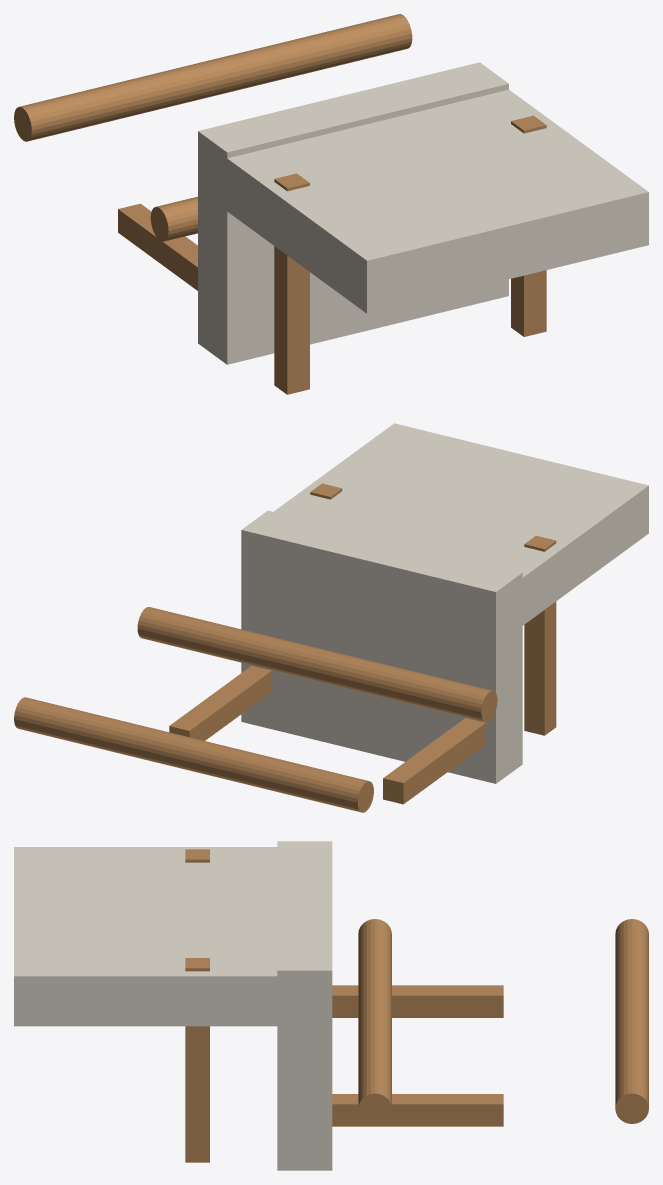
Rendered from rocking-chairs.glb.
3 views of the same model, one above another, from view 1: azimuth 30°, elevation 25°; view 2: azimuth 150°, elevation 25°; view 3: azimuth 270°, elevation 25° (orthographic). The views are drawn at different scales.
Parts seen in each view (by area): view 1: Back, Seat, Runner, world, Arm; view 2: Seat, Back, world, Runner, Leg; view 3: Back, Seat, world, Runner, Leg, Arm.
Boxes of the visible parts, box(x1,y1,x2,y2) form: Back: box(209, 89, 648, 313); Seat: box(198, 62, 508, 364); Runner: box(14, 14, 412, 141); world: box(118, 173, 309, 394); Arm: box(511, 115, 546, 336); Seat: box(241, 510, 522, 783); Back: box(273, 423, 648, 638); world: box(137, 535, 556, 804); Runner: box(14, 697, 373, 812); Leg: box(169, 665, 271, 740); Back: box(14, 847, 319, 1026); Seat: box(277, 841, 332, 1170); world: box(185, 849, 503, 1123); Runner: box(615, 919, 648, 1123); Leg: box(332, 1094, 503, 1126); Arm: box(185, 958, 209, 1162).
Size of the model in its own units: 1.35 by 0.72 by 2.08.
